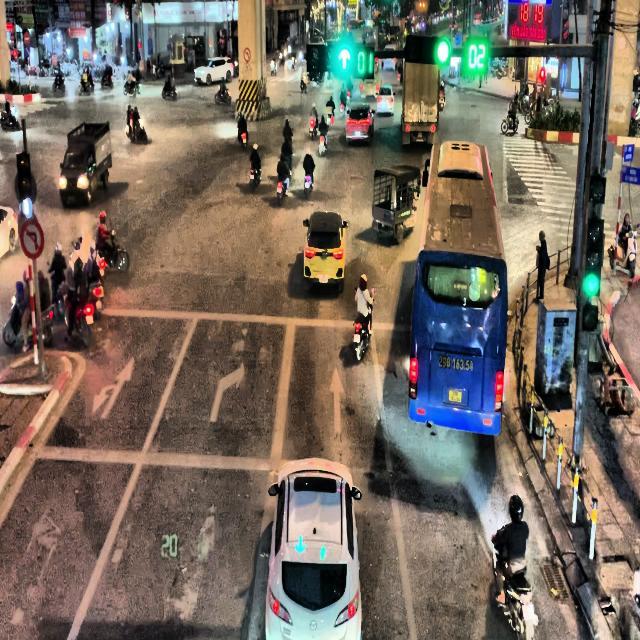CAR: (264, 458, 362, 640), (302, 210, 348, 294), (345, 102, 374, 145), (194, 57, 234, 85), (0, 206, 18, 259), (376, 84, 394, 116)
MOTORBIKE: (490, 542, 537, 640), (3, 269, 54, 349), (61, 284, 93, 348), (352, 287, 374, 361), (98, 225, 129, 273), (125, 117, 147, 143), (0, 100, 18, 129), (276, 170, 290, 206), (501, 111, 519, 133), (304, 166, 314, 198), (249, 165, 261, 191), (124, 78, 142, 95), (215, 86, 231, 105), (162, 79, 176, 99), (318, 128, 328, 156), (52, 74, 65, 92), (151, 63, 165, 79), (238, 128, 248, 149), (78, 80, 92, 95), (309, 118, 318, 139), (101, 72, 113, 87), (300, 77, 308, 92)
TRAFFIC_LIGHT: (582, 170, 606, 298), (434, 36, 452, 66)
TRUCK: (408, 140, 508, 435), (58, 120, 112, 208)
